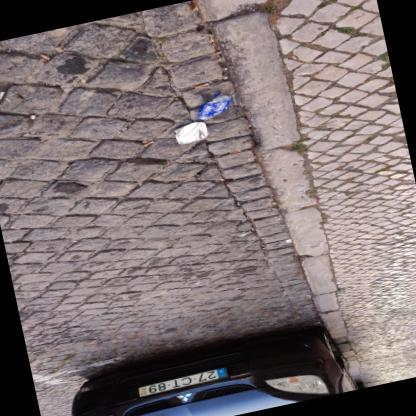Metal: (173, 120, 206, 143), (261, 210, 269, 214)
Paper: (193, 81, 208, 87), (142, 139, 154, 145), (53, 45, 63, 52), (327, 125, 338, 130), (227, 149, 239, 152), (0, 90, 4, 97), (209, 35, 213, 41), (153, 274, 159, 278), (264, 296, 269, 297)
Plastic: (218, 177, 225, 180)
Waste: (27, 113, 35, 119), (284, 238, 291, 242)
